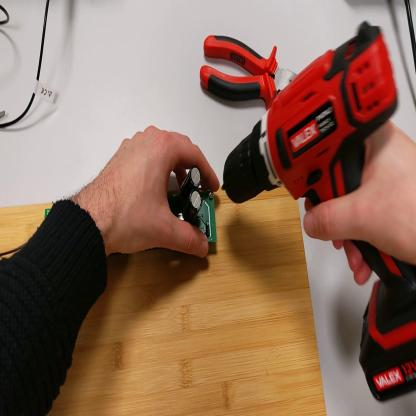electric screwdriver: (223, 22, 416, 406)
hand: (303, 114, 416, 284), (100, 123, 220, 263)
high voltage board: (3, 162, 218, 257)
pliers: (198, 33, 298, 110)
working area: (1, 182, 326, 416)
